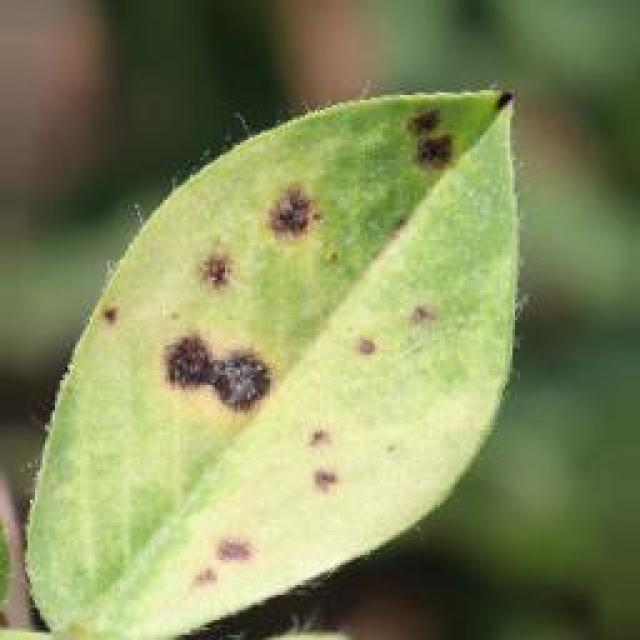Yellowish: (0, 80, 546, 614)
